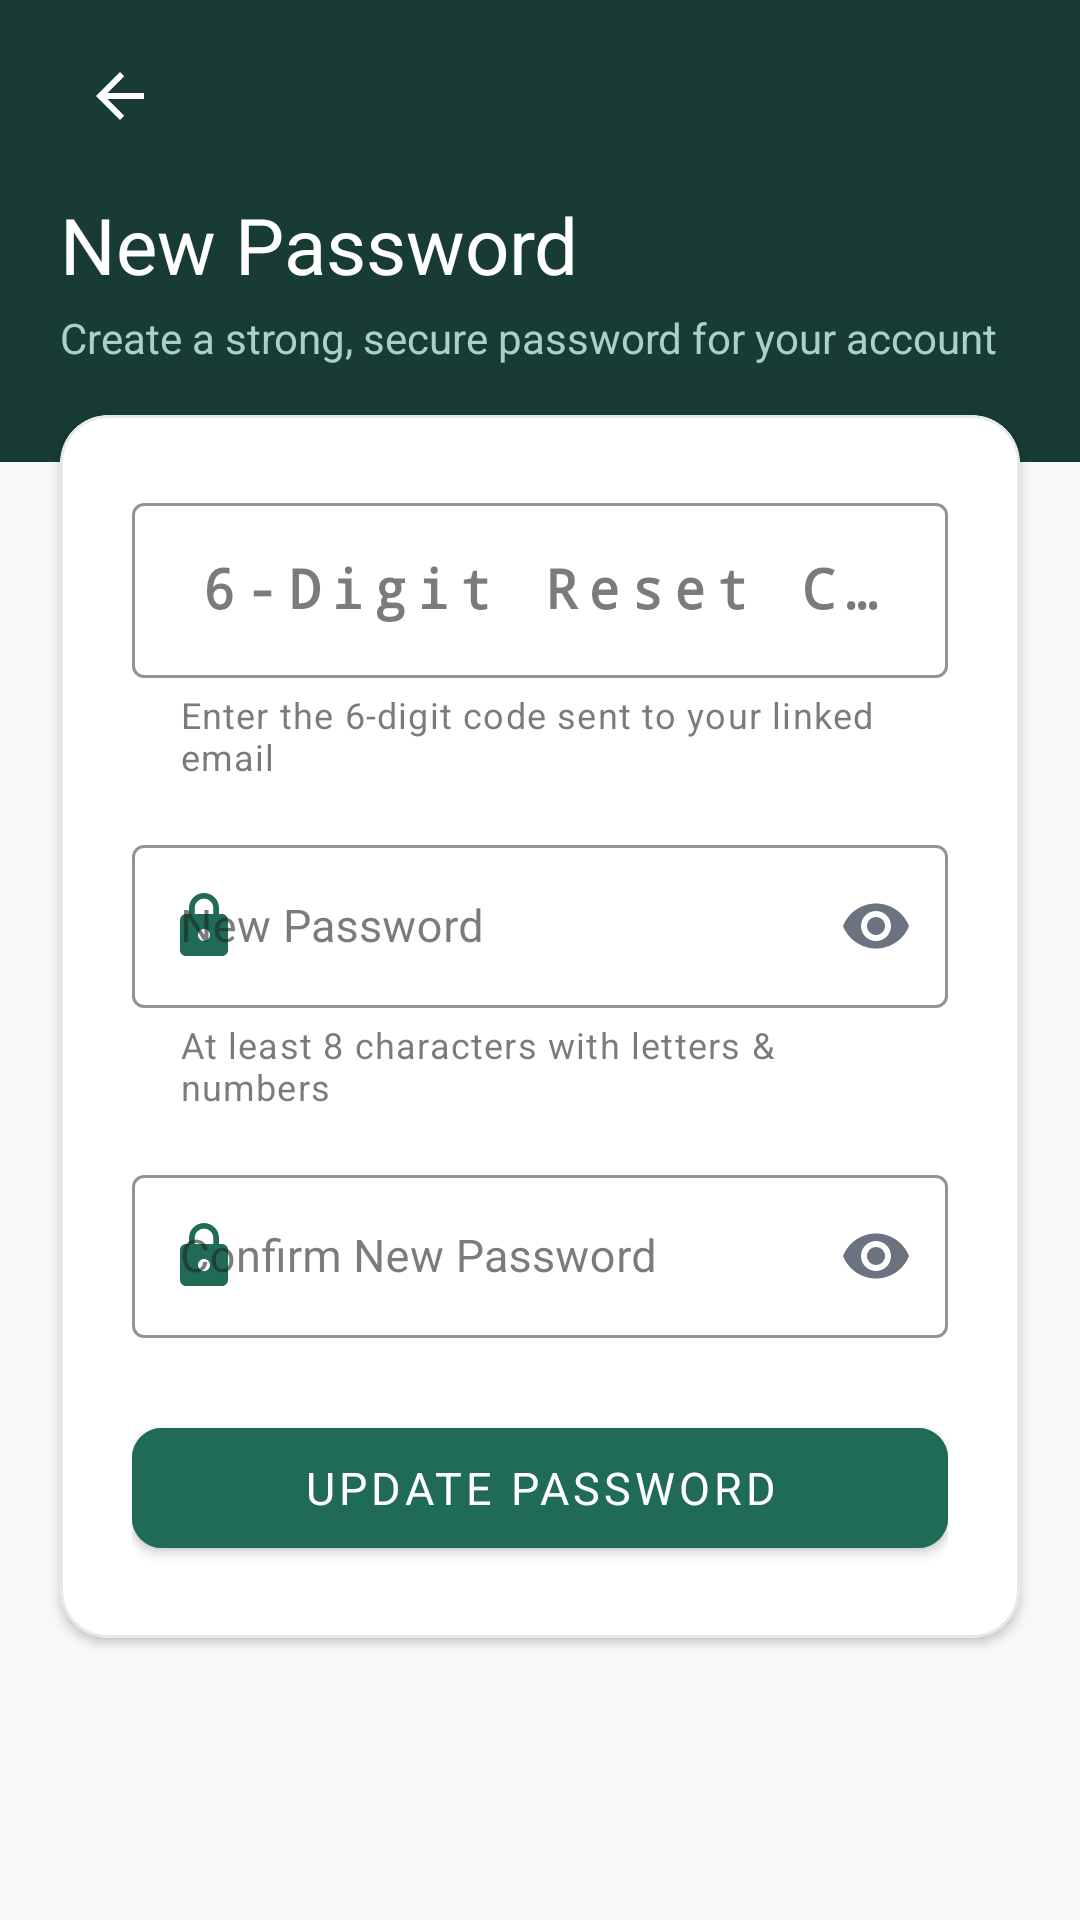

Locate icon controls on the screen. Image size 1080px x 1920px, boxes as box(x1, y1, x2, y2).
Back: box(96, 72, 144, 120)
